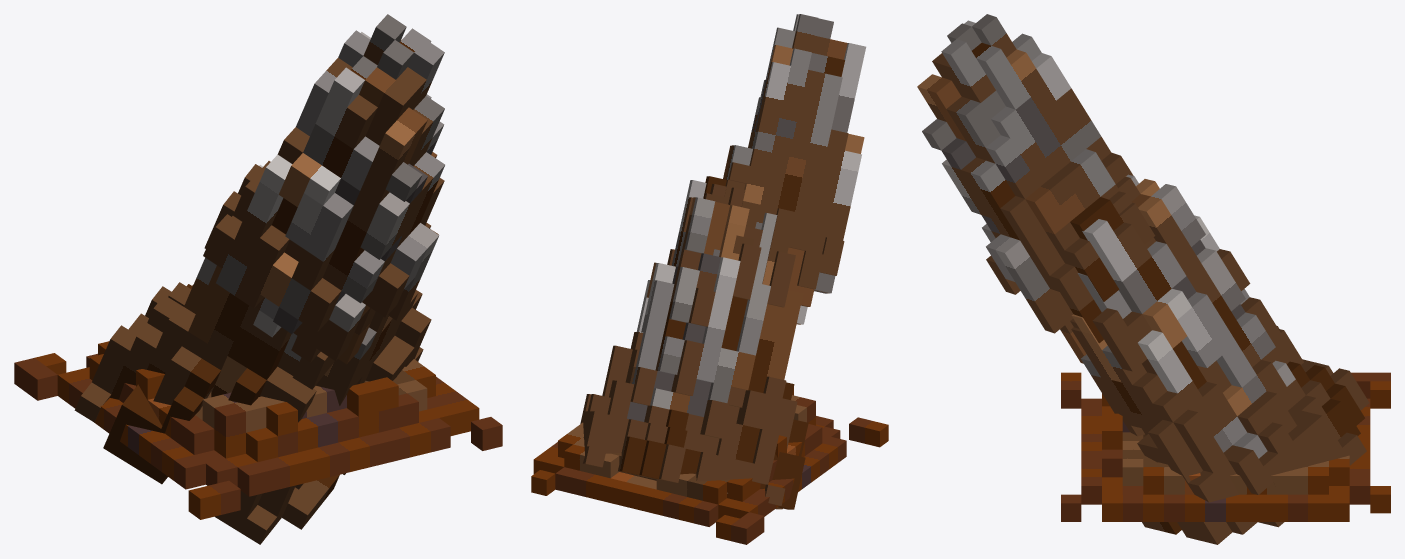
File: ironore_lv3.gltf
The picture shows the model from 3 angles, left to right: view 1: azimuth 30°, elevation 25°; view 2: azimuth 150°, elevation 25°; view 3: azimuth 270°, elevation 25°; orthographic projection. The views are drawn at different scales.
Visible parts, largest first — view 1: ore2-Local, resources_ore-Local, ore-Local; view 2: ore-Local, ore2-Local, resources_ore-Local; view 3: ore-Local, ore2-Local, resources_ore-Local.
Part boxes in pixels (left/top/right/bottom): ore2-Local: left=203, top=14, right=444, bottom=364; resources_ore-Local: left=14, top=341, right=502, bottom=519; ore-Local: left=74, top=164, right=438, bottom=544; ore-Local: left=580, top=180, right=808, bottom=509; ore2-Local: left=703, top=14, right=866, bottom=324; resources_ore-Local: left=531, top=387, right=888, bottom=544; ore-Local: left=1071, top=174, right=1369, bottom=544; ore2-Local: left=917, top=14, right=1155, bottom=363; resources_ore-Local: left=1061, top=372, right=1390, bottom=521.
Size of the model in its own units: 15 by 27.42 by 22.97.
3 materials, 3 textured.
